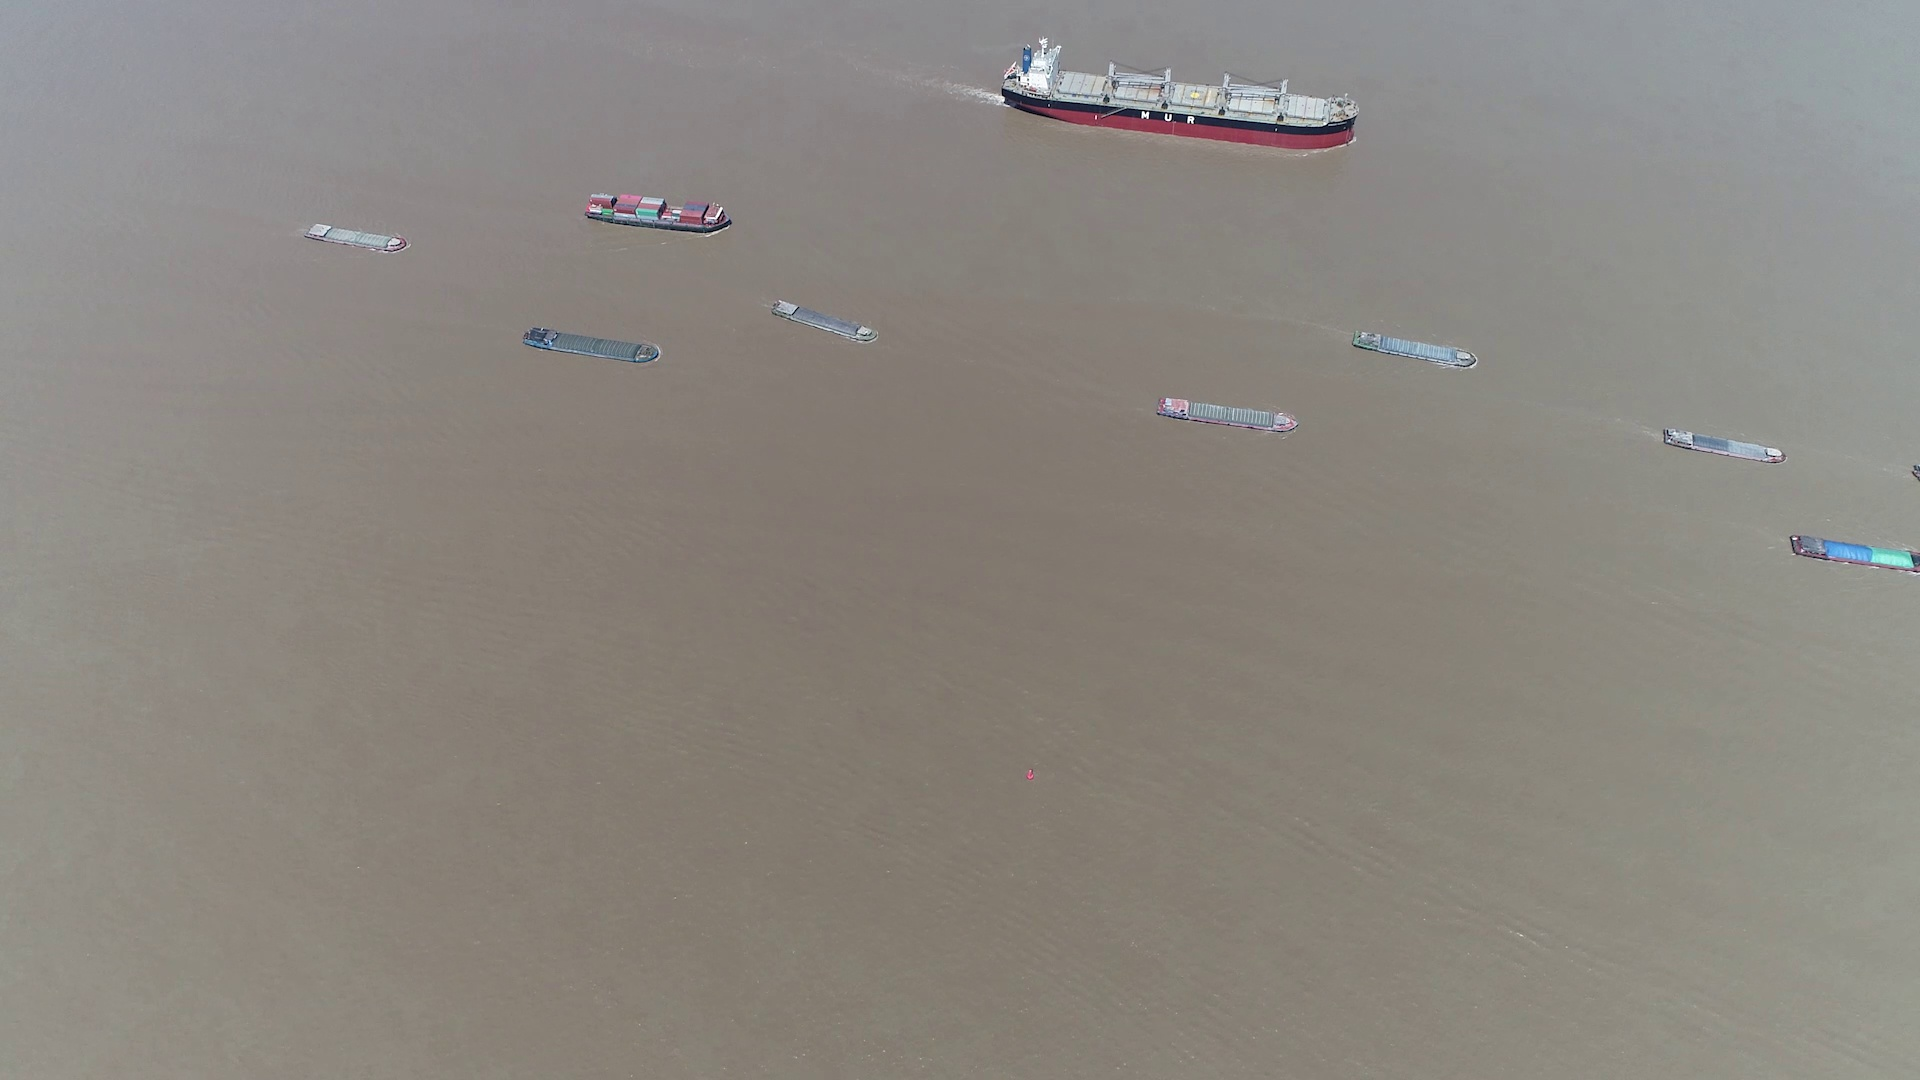ship: (1001, 40, 1360, 146), (585, 193, 735, 233), (1153, 394, 1298, 435), (520, 327, 663, 367), (1788, 531, 1919, 574), (1354, 328, 1480, 371), (771, 299, 880, 345), (1664, 429, 1785, 465), (303, 222, 406, 253)
